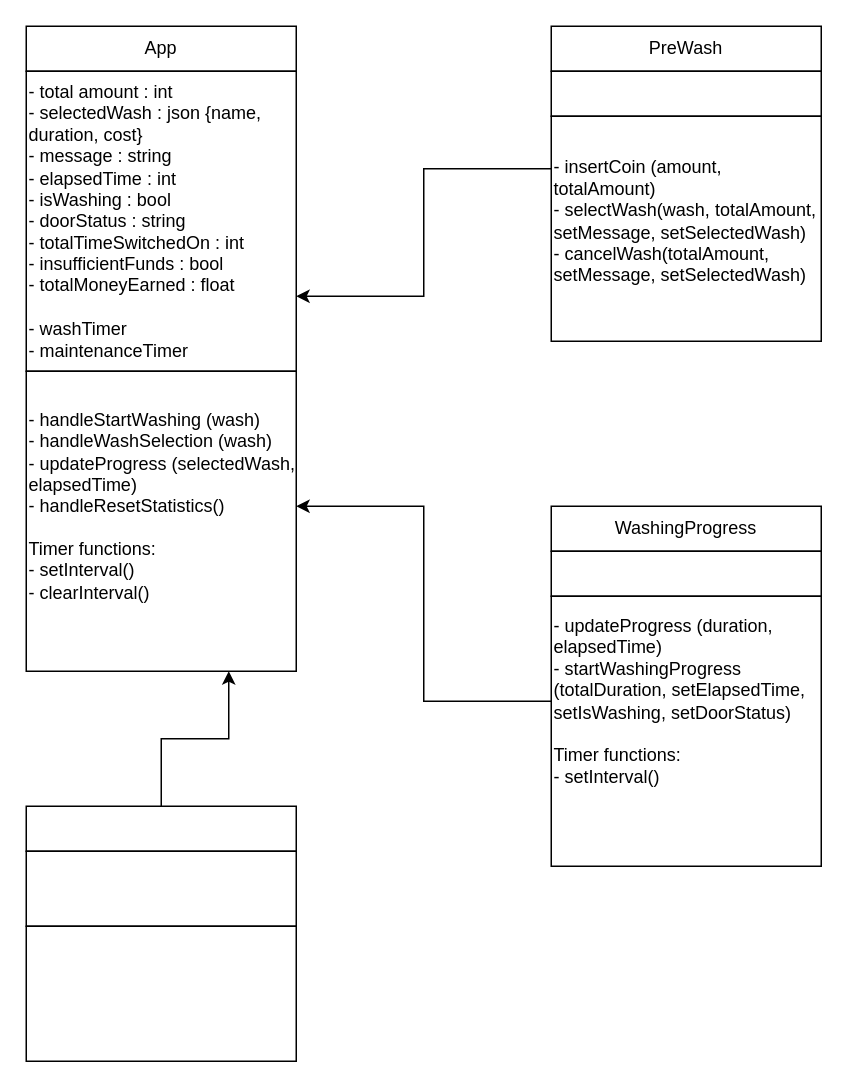
Image size: 848x1088. Some labels were removed from this diagram. Each missing label, with the centre of its shape:
- totalMoneyEarned : float - totalTimeSwitchedOn : int: (x=160, y=888)
- updateTotalTimeSwitchedOn (seconds) - getStatistics() - resetStatistics(): (x=160, y=993)
Maintenance: (x=160, y=828)
